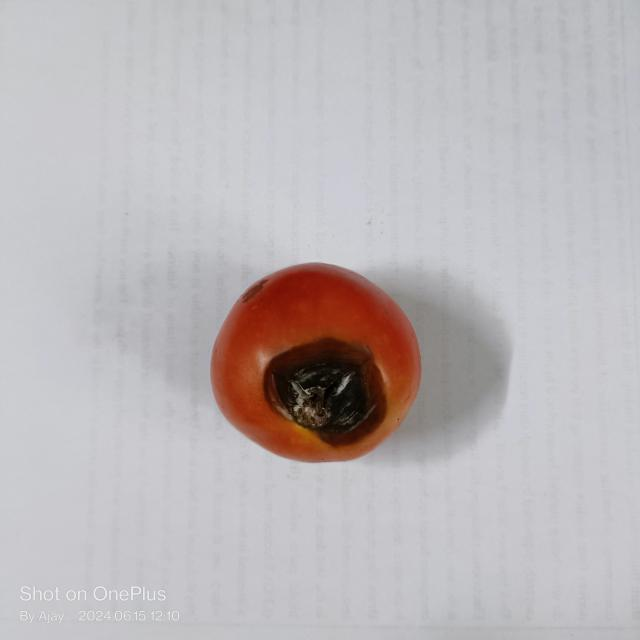Anthrocnose: (262, 336, 384, 446)
